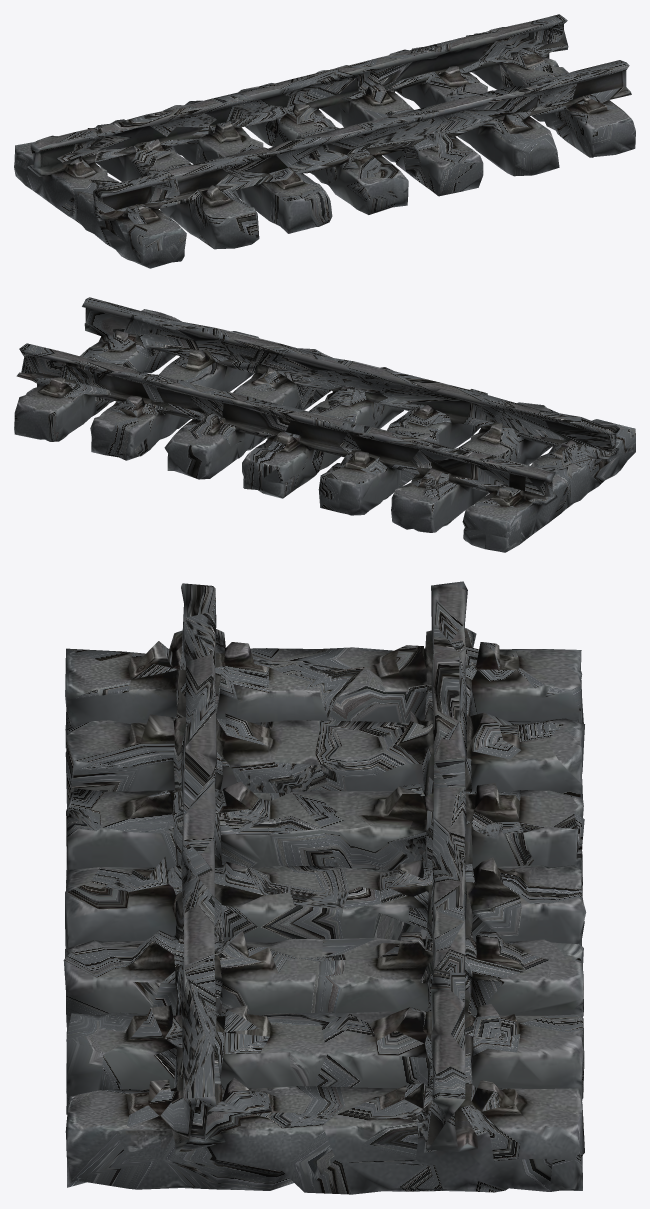
File: railroad_track_05.glb
The picture shows the model from 3 angles, top to bottom: view 1: azimuth 30°, elevation 25°; view 2: azimuth 150°, elevation 25°; view 3: azimuth 270°, elevation 25°; orthographic projection. The views are drawn at different scales.
Parts seen in each view (by area): view 1: tripo_node_cc61f39e-e8f9-4f4e-b7c4-7080ae167e2a; view 2: tripo_node_cc61f39e-e8f9-4f4e-b7c4-7080ae167e2a; view 3: tripo_node_cc61f39e-e8f9-4f4e-b7c4-7080ae167e2a.
Boxes of the visible parts, <box> form: tripo_node_cc61f39e-e8f9-4f4e-b7c4-7080ae167e2a: <box>14,14,635,268</box>; tripo_node_cc61f39e-e8f9-4f4e-b7c4-7080ae167e2a: <box>14,297,635,552</box>; tripo_node_cc61f39e-e8f9-4f4e-b7c4-7080ae167e2a: <box>63,581,586,1194</box>.
Bounding box in the file's own units: 0.9825 × 0.1066 × 0.4187.
Materials: 1 (1 with a texture image).
